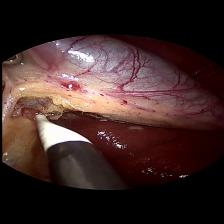Hook: (20, 107, 88, 150)
